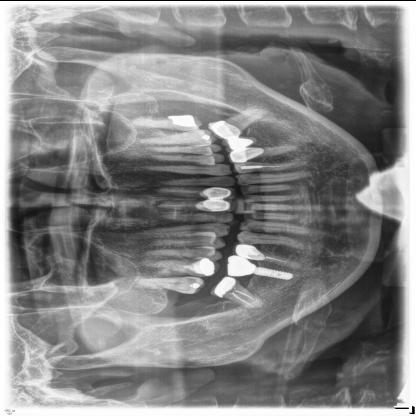ITI: (254, 262, 296, 284)
